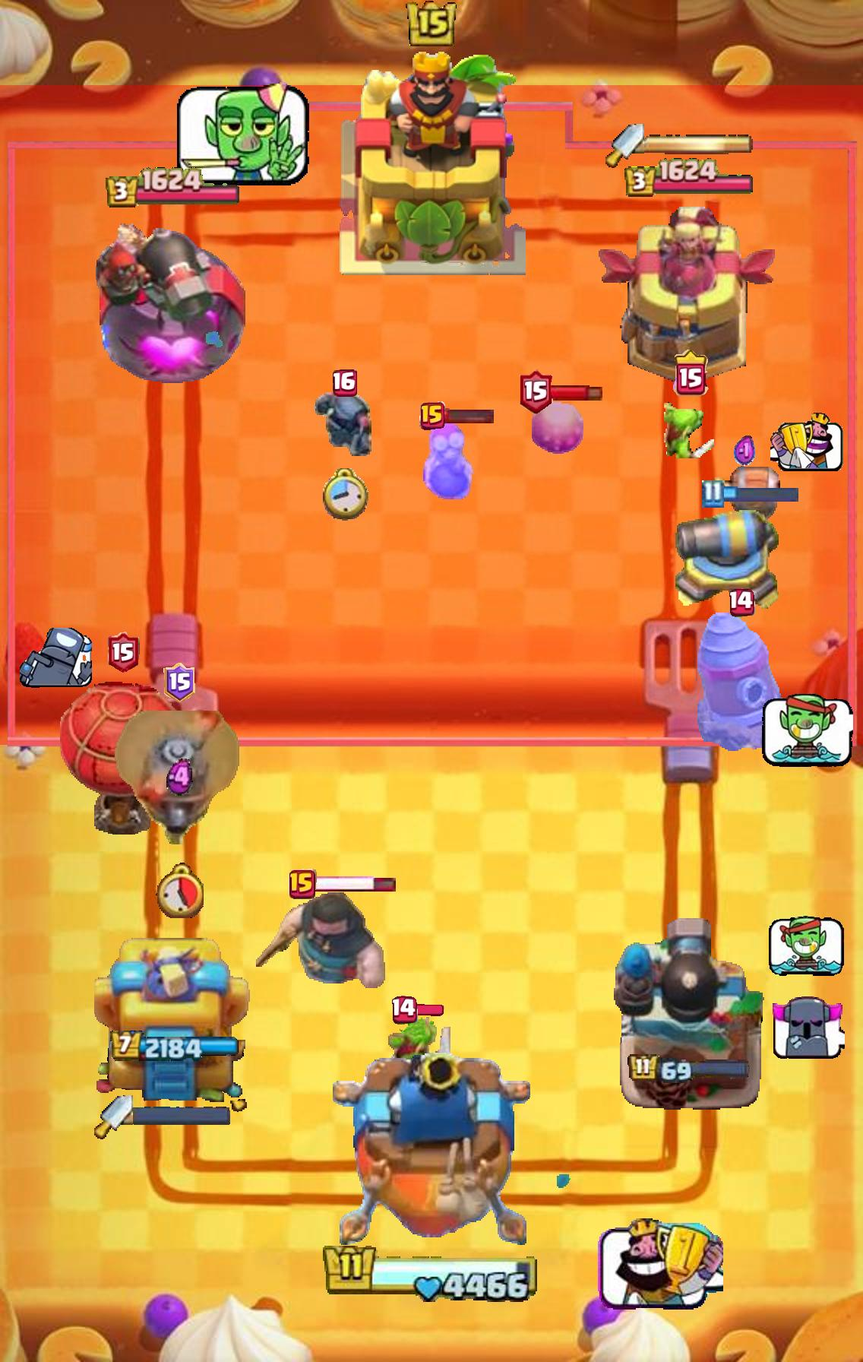bar: (313, 874, 397, 894), (549, 383, 602, 401), (441, 407, 495, 424), (415, 1004, 445, 1016)
bar-level: (673, 349, 709, 396), (520, 369, 553, 415), (108, 632, 140, 673), (163, 662, 195, 703), (288, 869, 316, 899), (419, 401, 445, 430), (729, 588, 755, 617), (392, 996, 418, 1025), (333, 369, 357, 397)
